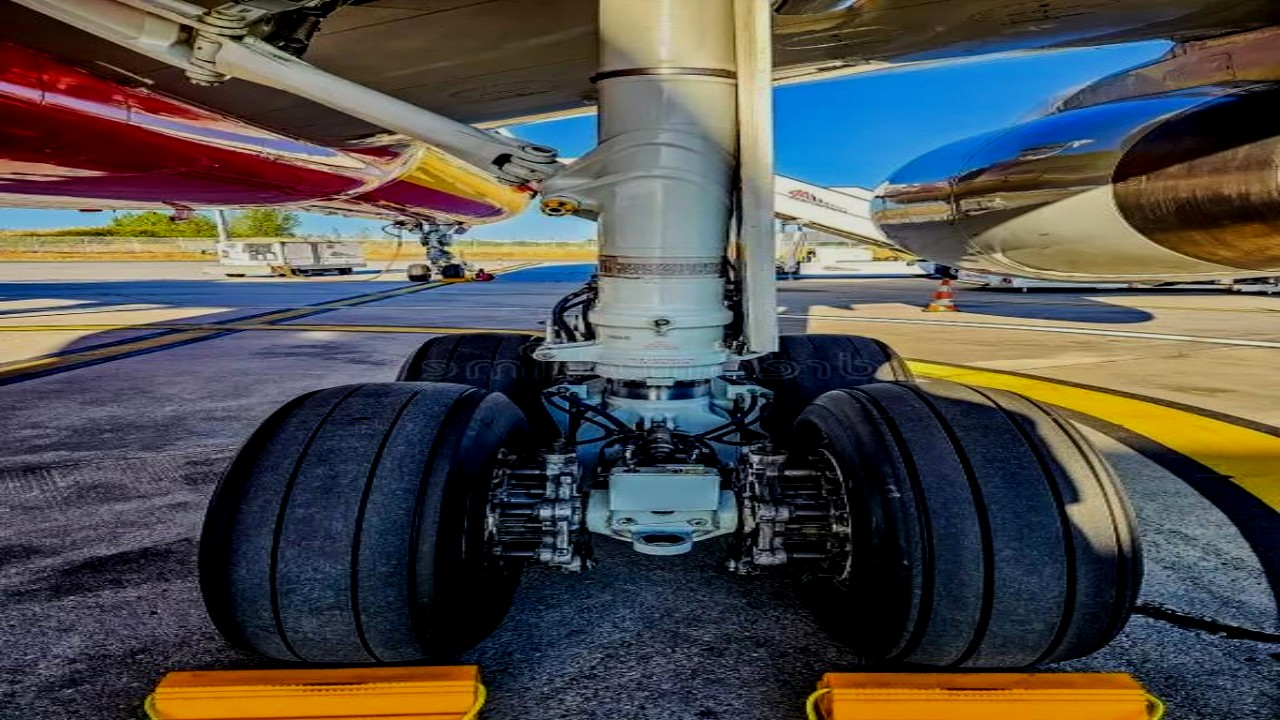chock: (136, 661, 484, 720), (804, 666, 1169, 719), (442, 277, 469, 285)
wheel: (784, 382, 1138, 667), (200, 382, 533, 662), (393, 331, 560, 443), (756, 333, 909, 435), (409, 263, 433, 281), (442, 263, 467, 278)
